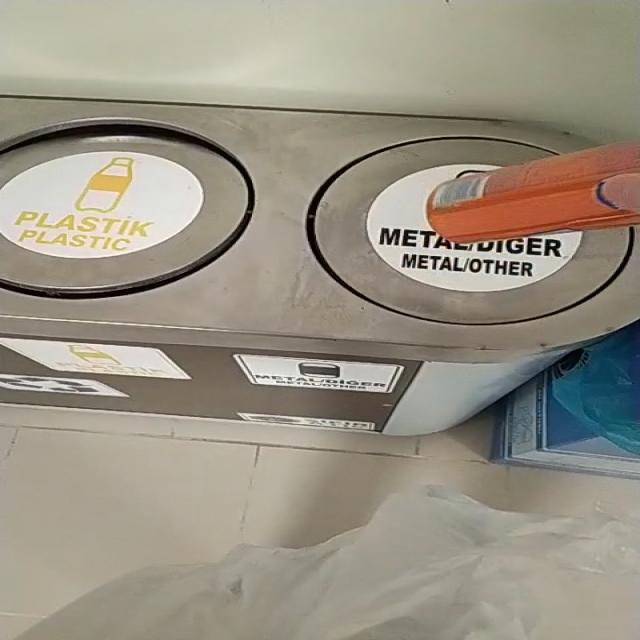Bin: (1, 98, 639, 436)
Metal: (428, 143, 640, 243)
